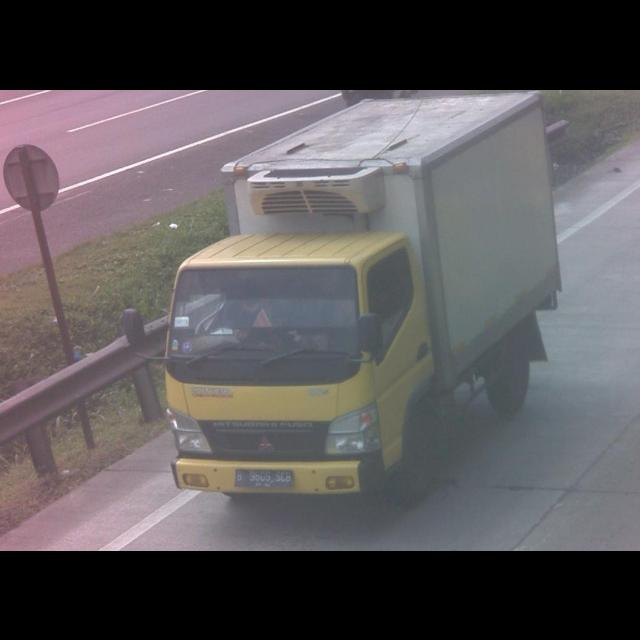plate: (232, 467, 296, 489)
